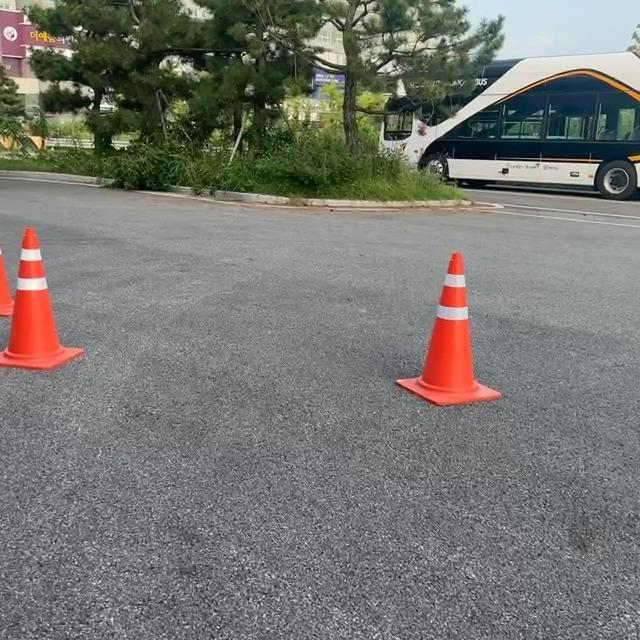fallen_object: (335, 192, 514, 437), (22, 190, 140, 518)
